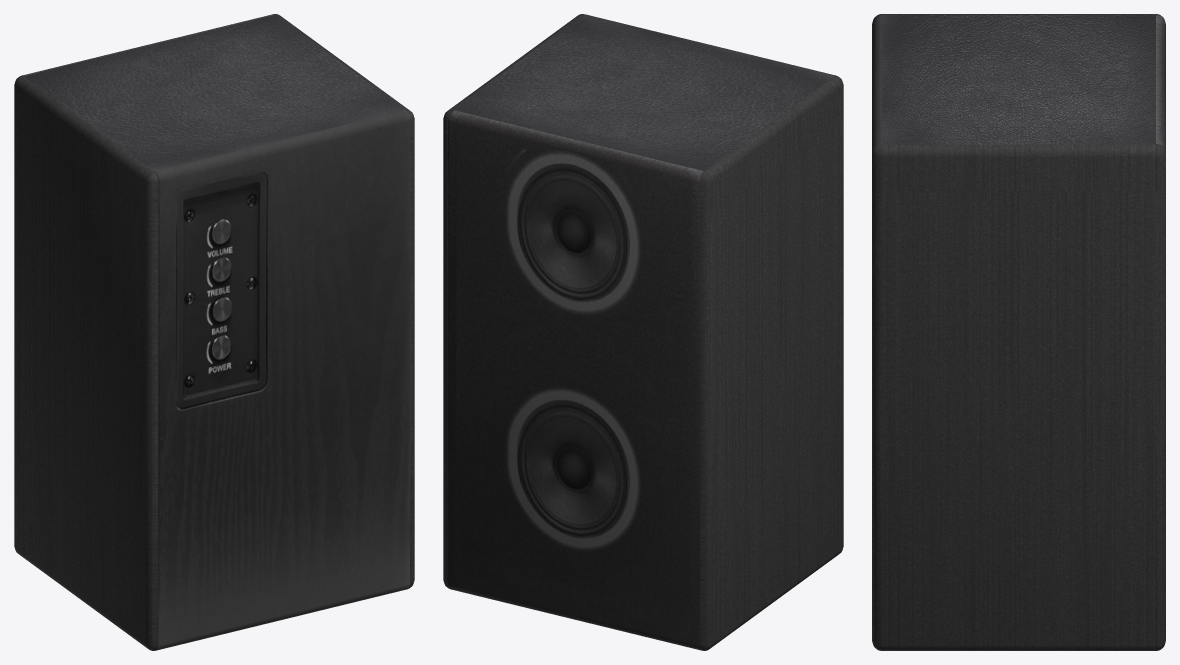
The model's file is Loudspeaker03b.FBX.
The picture shows the model from 3 angles, left to right: view 1: azimuth 30°, elevation 25°; view 2: azimuth 150°, elevation 25°; view 3: azimuth 270°, elevation 25°; orthographic projection. The views are drawn at different scales.
Parts seen in each view (by area): view 1: Loudspeaker03b; view 2: Loudspeaker03b; view 3: Loudspeaker03b.
Part boxes in pixels (left/top/right/bottom): Loudspeaker03b: left=14, top=14, right=414, bottom=650; Loudspeaker03b: left=443, top=14, right=843, bottom=650; Loudspeaker03b: left=872, top=14, right=1165, bottom=650.
Size of the model in its own units: 13.78 by 23.55 by 12.4.
